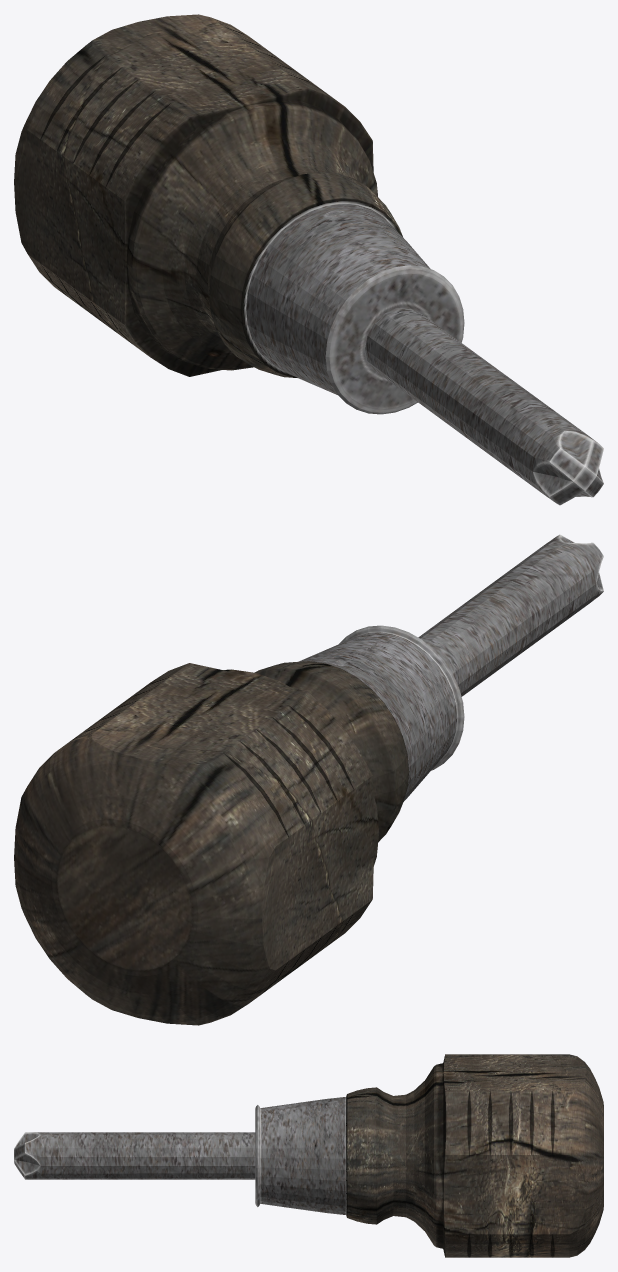
The model's file is workshop_medium_phillips_screw.obj.
3 views of the same model, one above another, from view 1: azimuth 30°, elevation 25°; view 2: azimuth 150°, elevation 25°; view 3: azimuth 270°, elevation 25° (orthographic). The views are drawn at different scales.
Bounding box in the file's own units: 0.014 × 0.014 × 0.045.
1 material, 1 textured.
